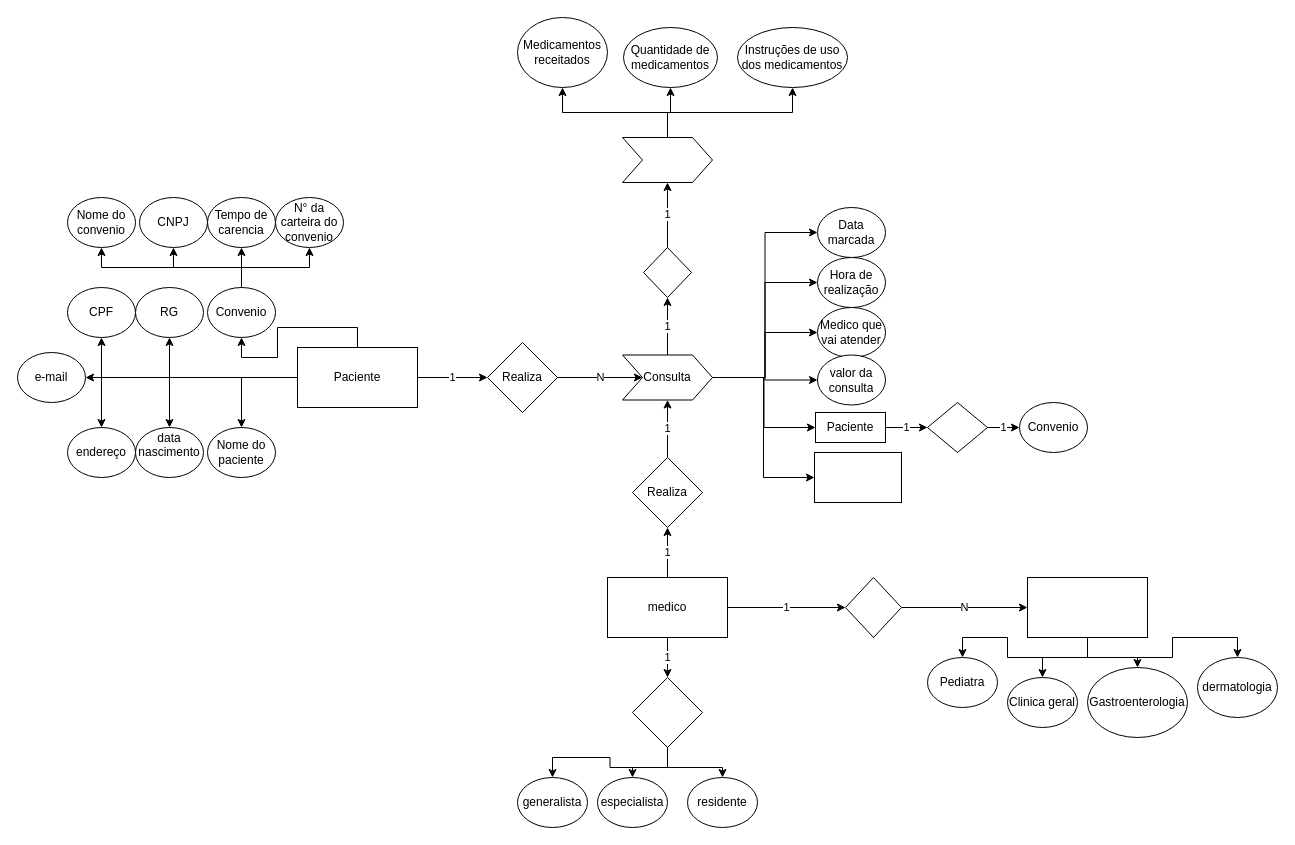
Image size: 1295x845. Some labels were removed from this diagram. Each missing label, with the centre of its shape:
Especialidade buscada: [858,477]
Especialidades: [1087,607]
Gera: [667,272]
Pode ser: [667,712]
Receita: [667,159]
Se tiver: [957,427]
TEM: [873,607]
